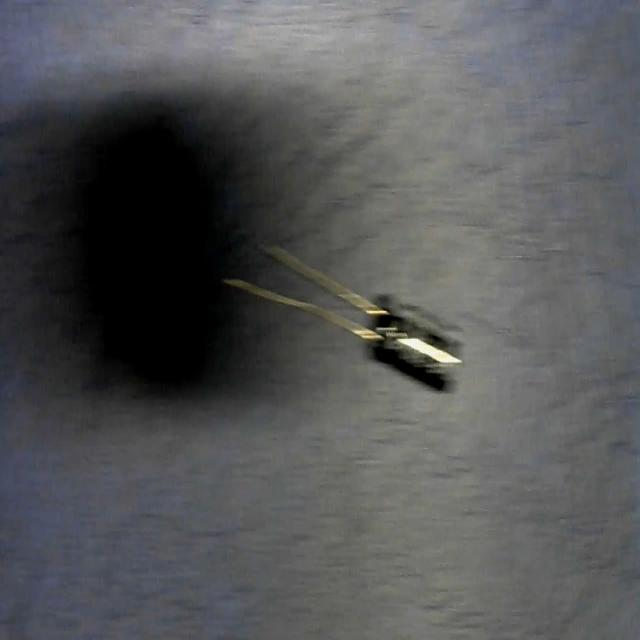capacitor: (232, 242, 460, 396)
